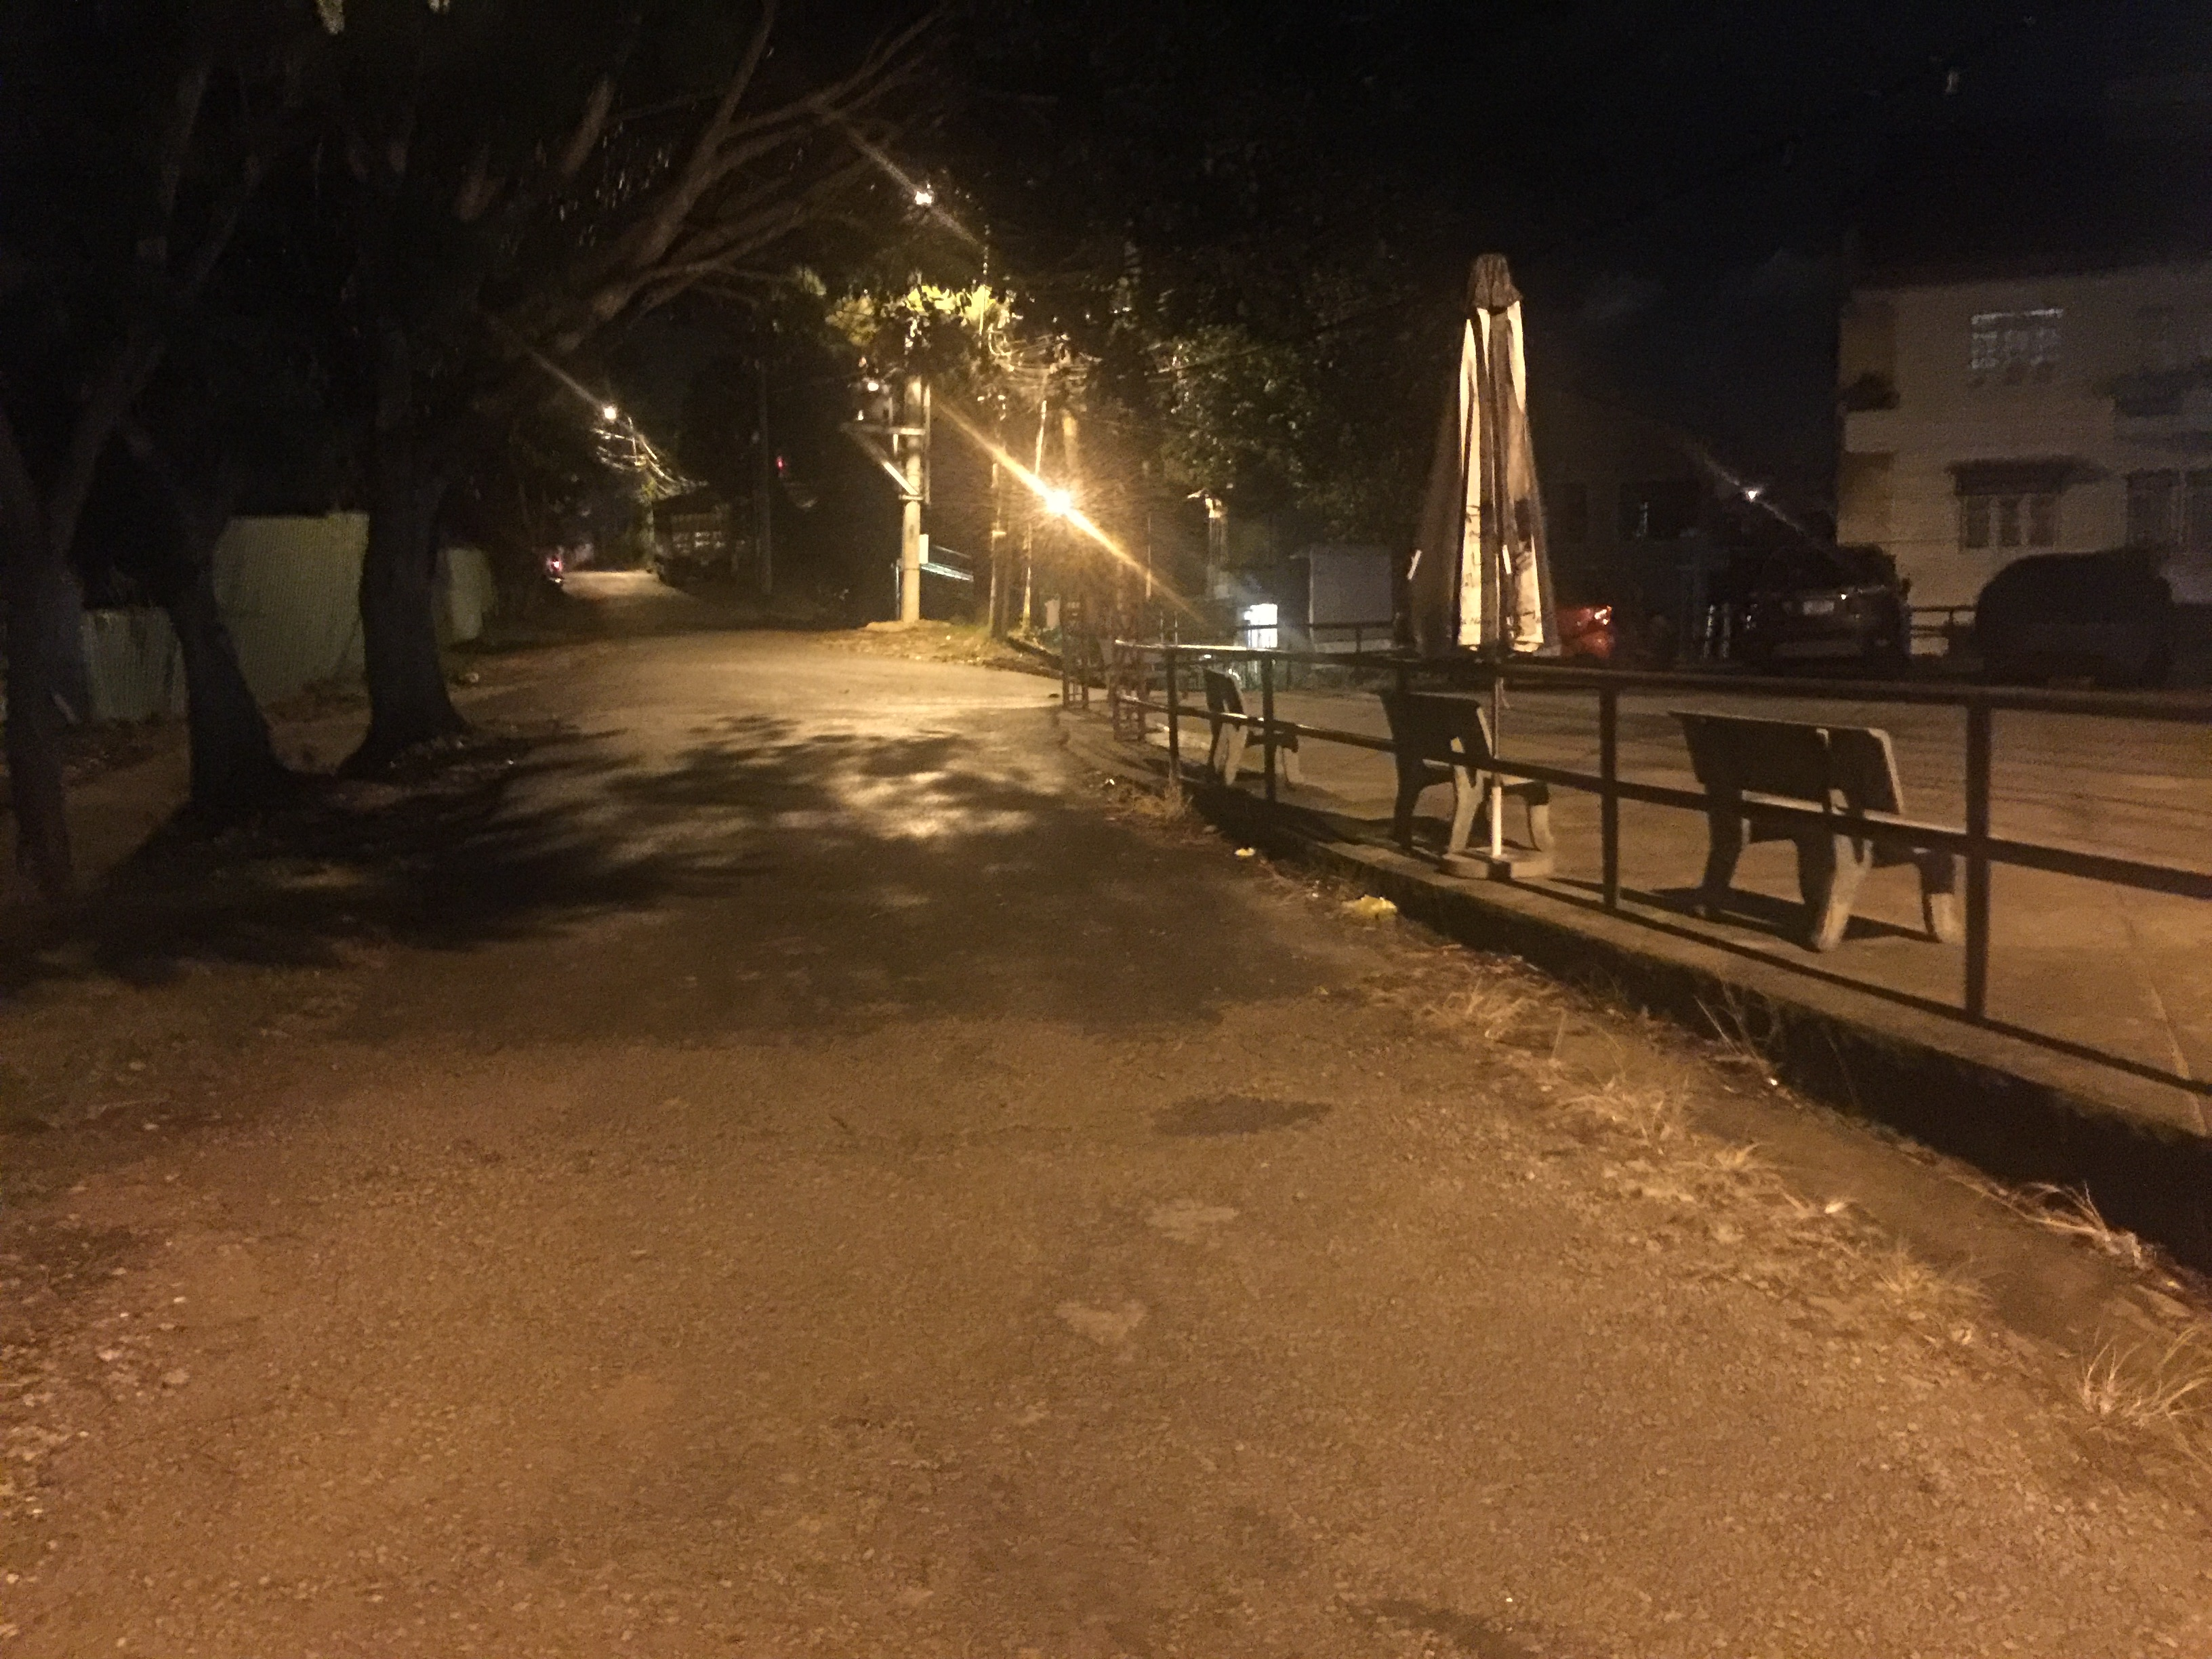hole: (1141, 1188, 1251, 1249), (1050, 1295, 1148, 1358)
